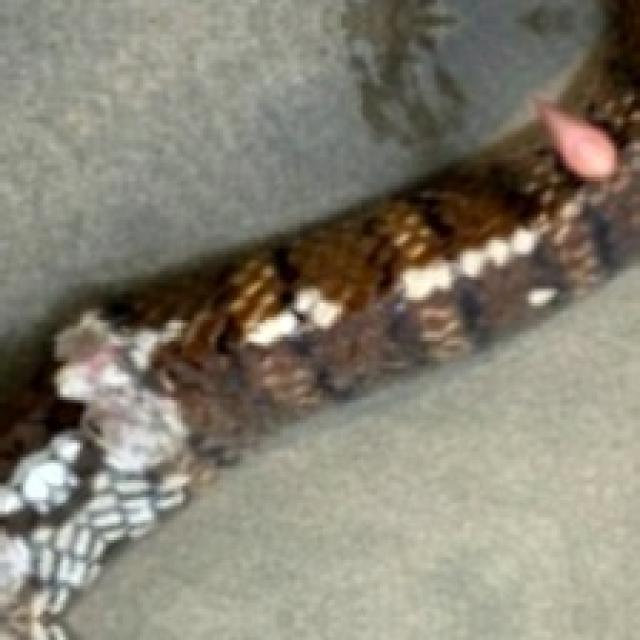king cobra: (0, 0, 637, 637), (140, 420, 637, 637), (343, 0, 594, 140), (11, 0, 266, 137)
